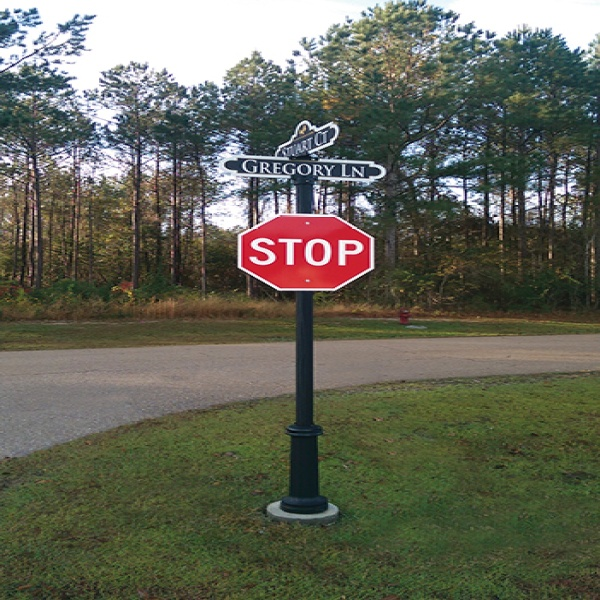stop: (233, 215, 378, 298)
